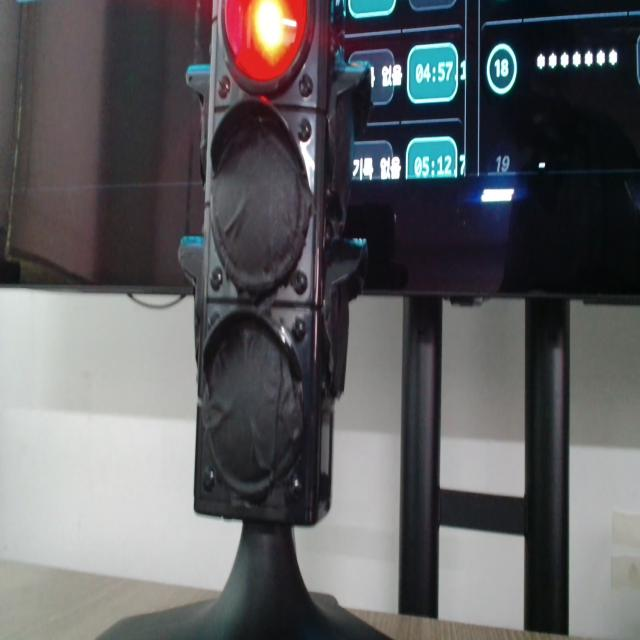red_light: (224, 0, 307, 82)
